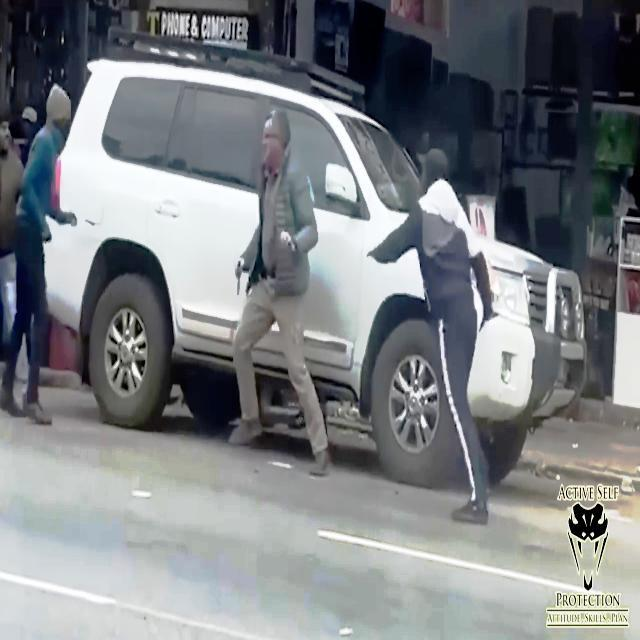Knife: (228, 256, 251, 302)
